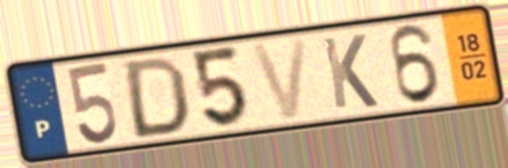5: (188, 42, 253, 132), (64, 60, 119, 147)
6: (386, 22, 443, 107)
D: (123, 53, 191, 141)
K: (319, 32, 382, 113)
V: (246, 35, 311, 124)
